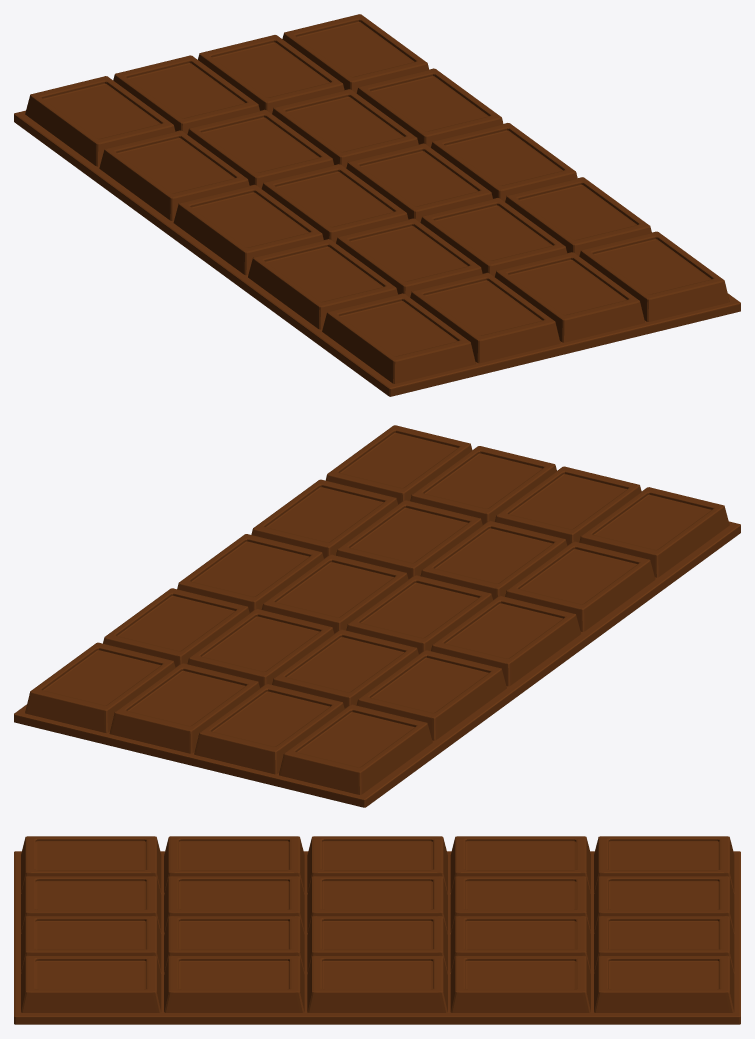
The model's file is sütlü çikolata.fbx.
3 renders of one model, top to bottom at view 1: azimuth 30°, elevation 25°; view 2: azimuth 150°, elevation 25°; view 3: azimuth 270°, elevation 25°, orthographic. The views are drawn at different scales.
Parts seen in each view (by area): view 1: dark brown; view 2: dark brown; view 3: dark brown.
Boxes of the visible parts, x1,y1,x2,y2 form: dark brown: (14,14,740,396); dark brown: (14,425,740,807); dark brown: (14,836,740,1024).
Bounding box in the file's own units: 416 × 33.09 × 771.
